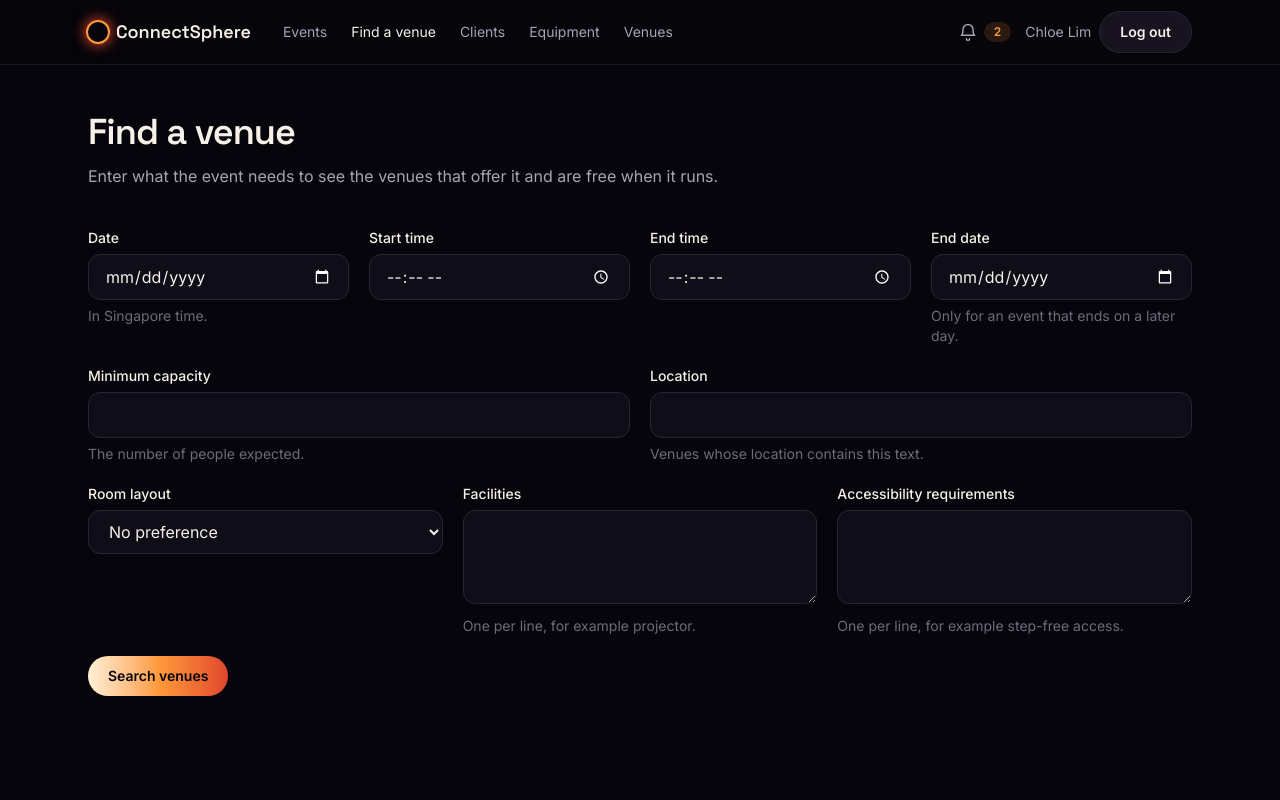
SCRUM-35 venue search page › shows the backend's message under the end time, and its summary above the results
In the date field labelled "Date": point(218, 277) [88,254,349,300], type "2026-11-20"
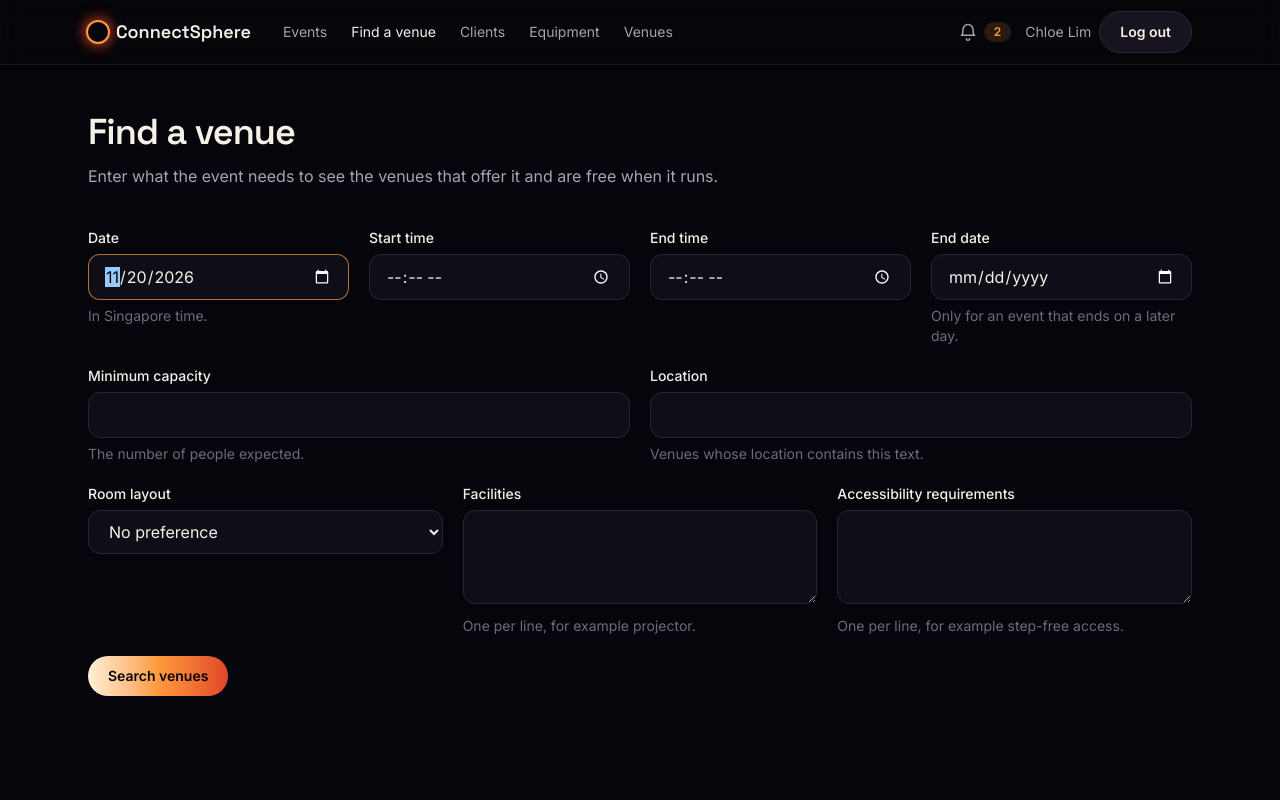
In the time field labelled "Start time": point(500, 277) [369,254,630,300], type "09:00"
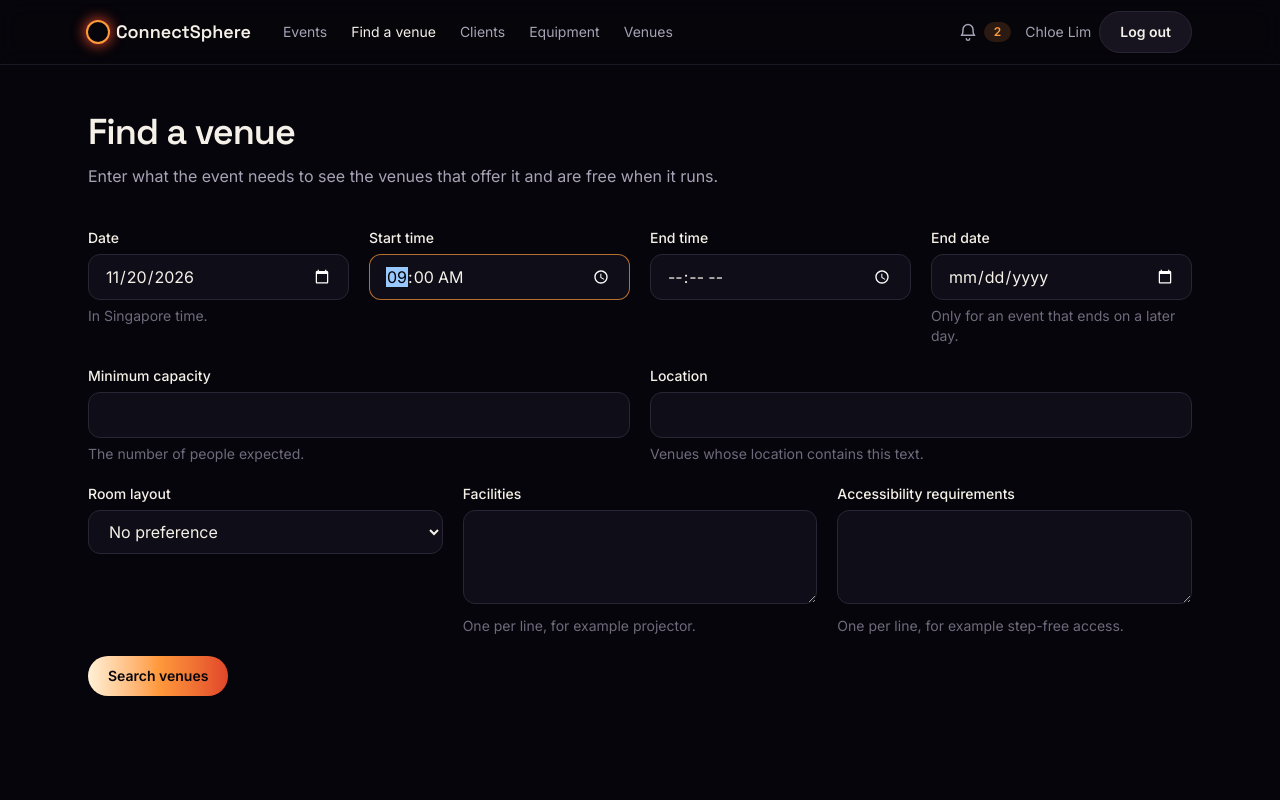
In the time field labelled "End time": point(780, 277) [650,254,911,300], type "17:00"
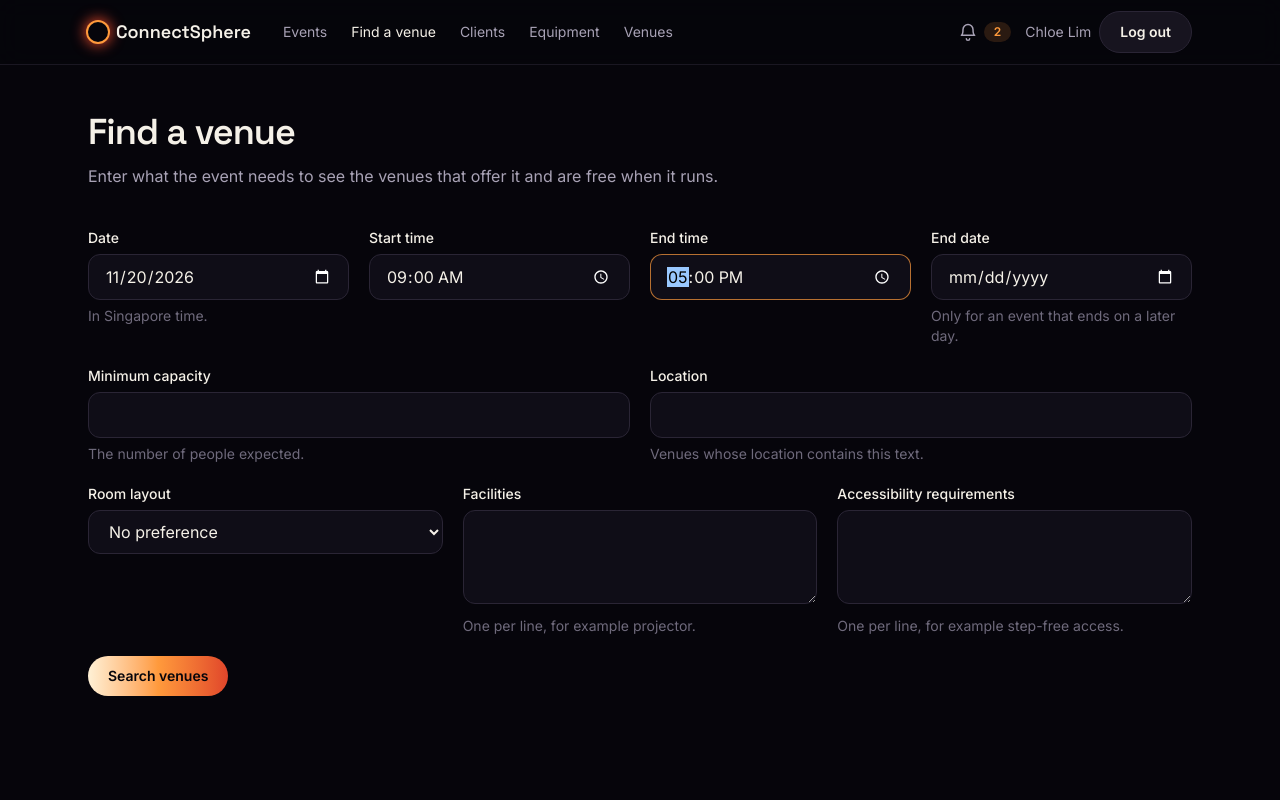
In the number field labelled "Minimum capacity": point(359, 415) [88,392,630,438], type "120"
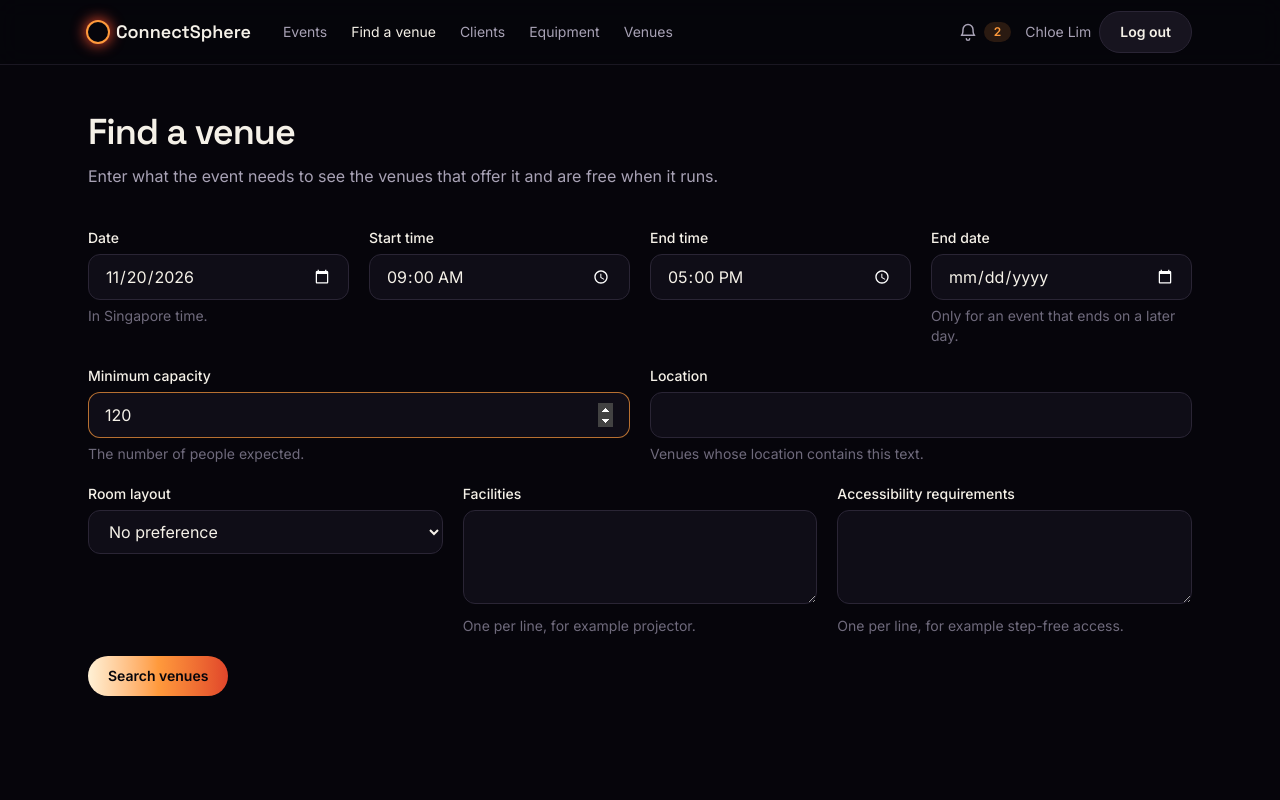
Replace the text in the time field labelled "End time" with "08:00": point(780, 277) [650,254,911,300]
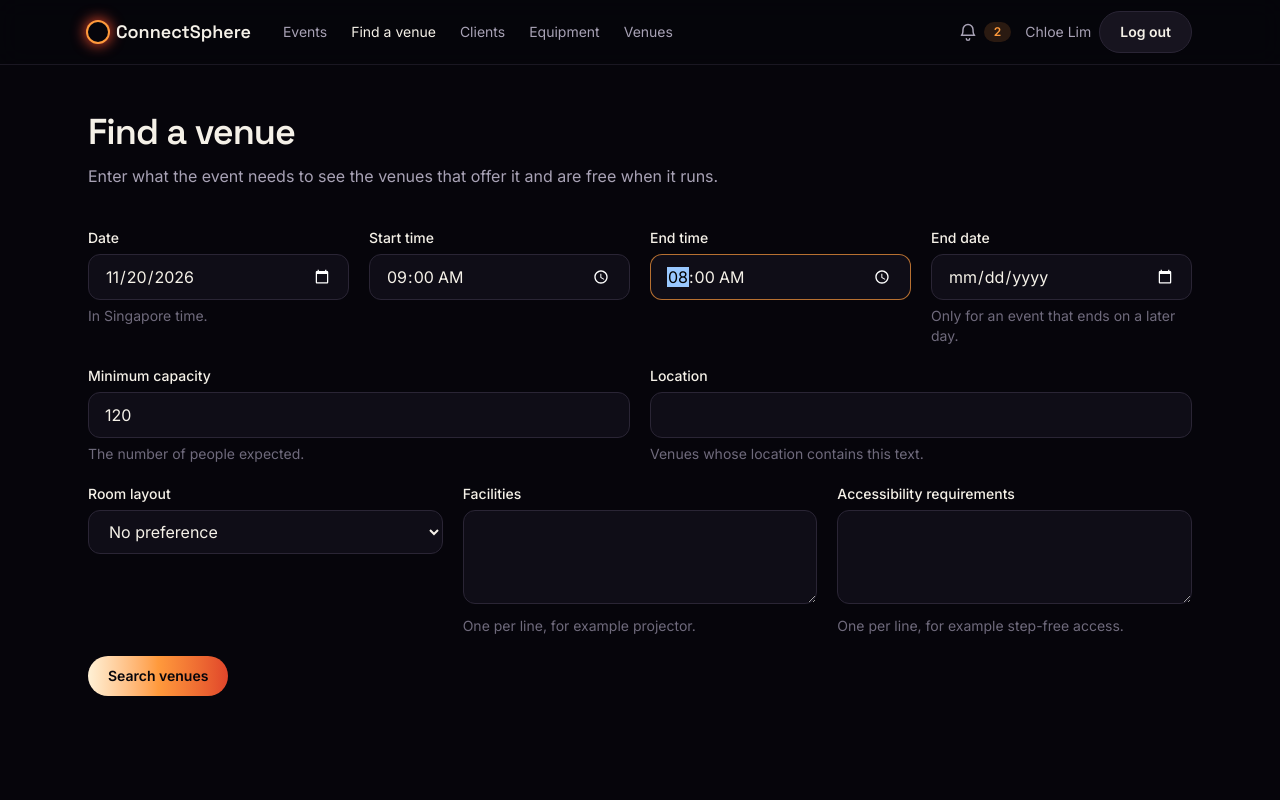
Click the button "Search venues": point(158, 676) [88,656,228,696]
(page scrolled)
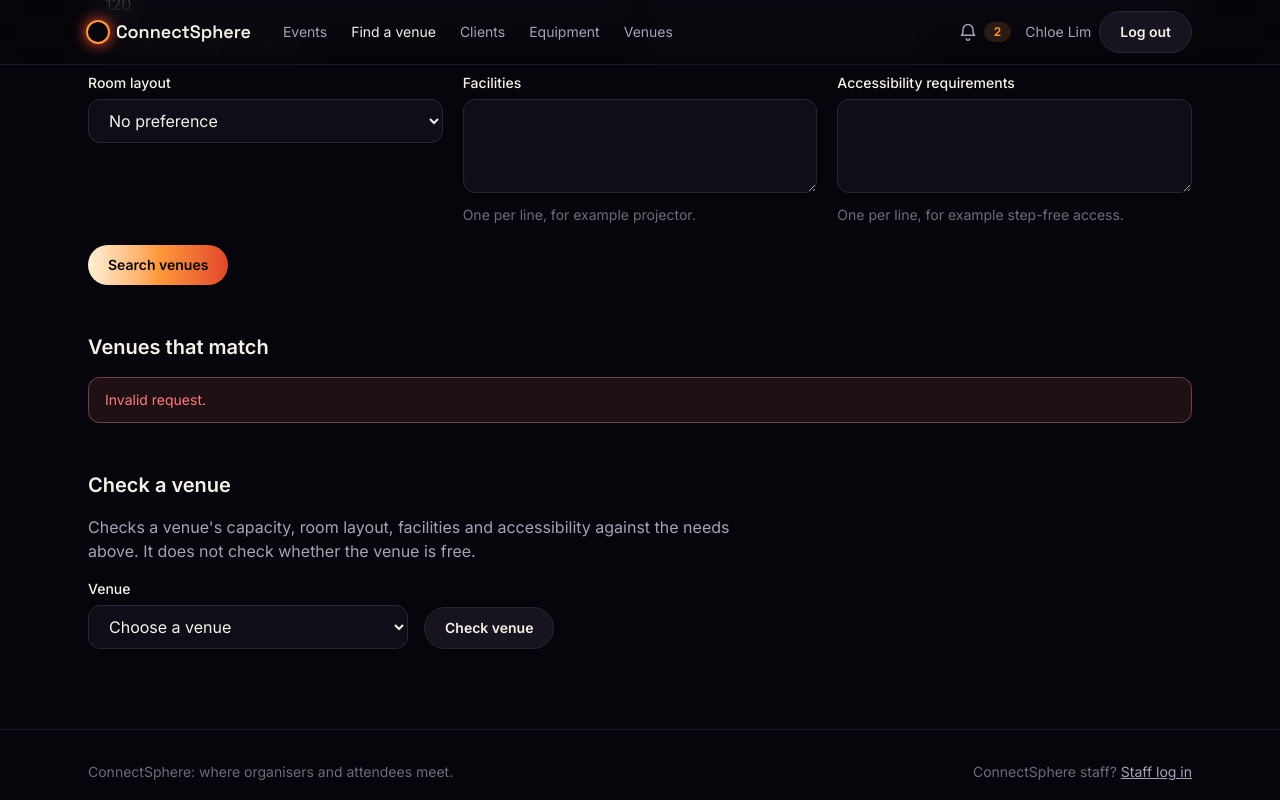
Expected: the message reads "Invalid request.", [105,391,206,408]
